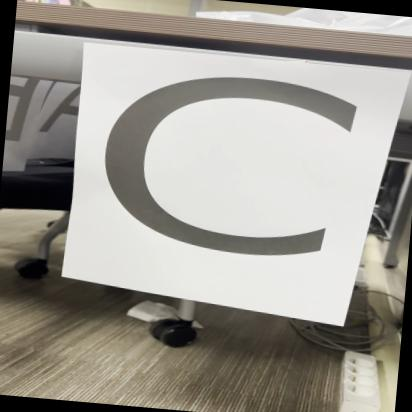seat: (73, 47, 375, 319)
